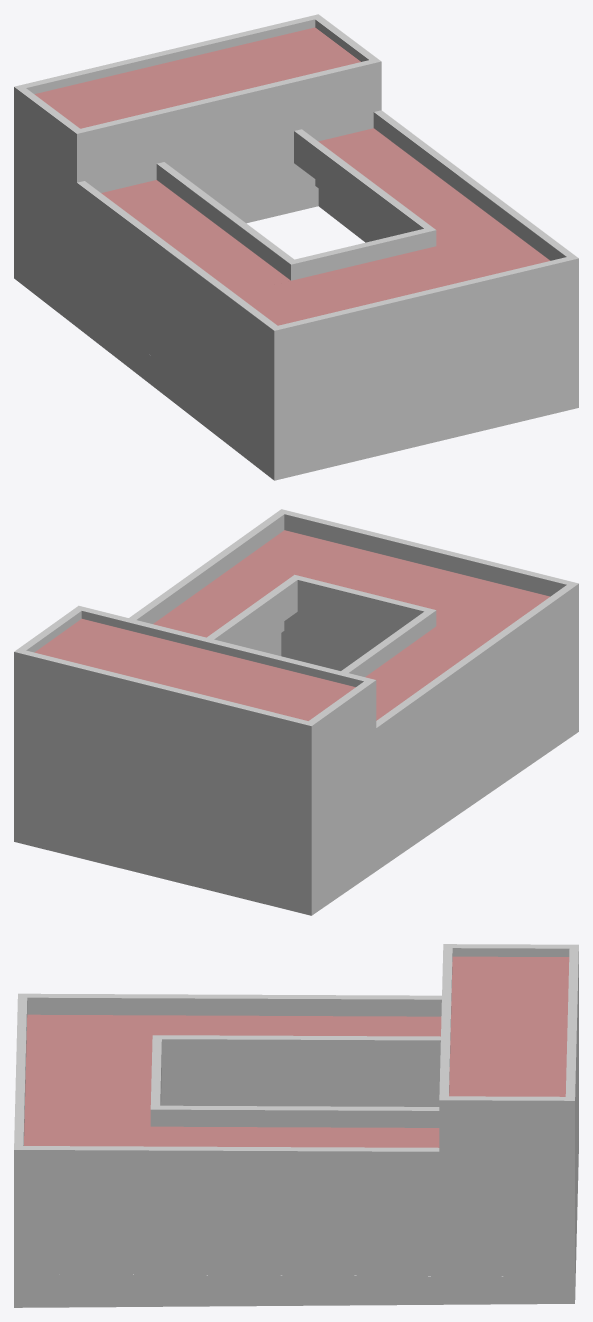
Rendered from LOD_Block_4_38.glb.
The picture shows the model from 3 angles, top to bottom: view 1: azimuth 30°, elevation 25°; view 2: azimuth 150°, elevation 25°; view 3: azimuth 270°, elevation 25°; orthographic projection. The views are drawn at different scales.
Visible parts, largest first — view 1: mesh_CityEngineMaterial_583; view 2: mesh_CityEngineMaterial_583; view 3: mesh_CityEngineMaterial_583.
Part boxes in pixels (<box>): mesh_CityEngineMaterial_583: <box>14,14,578,480</box>; mesh_CityEngineMaterial_583: <box>14,509,578,915</box>; mesh_CityEngineMaterial_583: <box>14,944,578,1307</box>.
Bounding box in the file's own units: 19.99 × 12.33 × 30.08.
